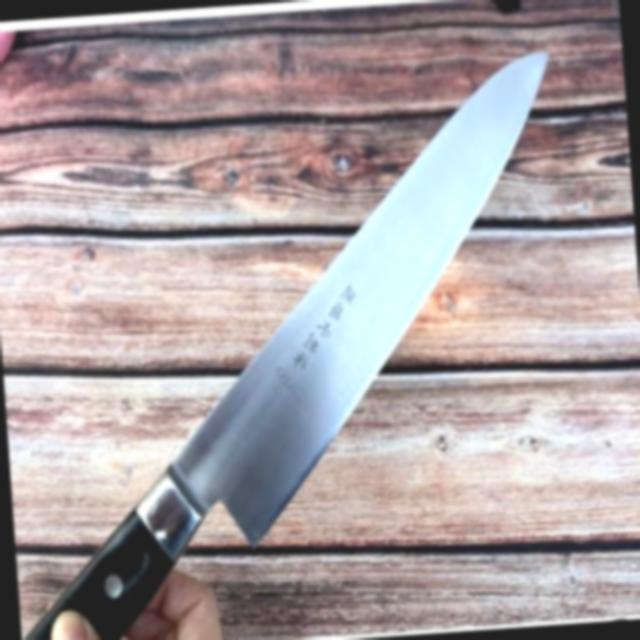knife: (0, 39, 602, 640)
